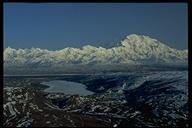mountain: (7, 31, 187, 77)
snow: (128, 42, 157, 64)
water: (42, 77, 95, 97)
